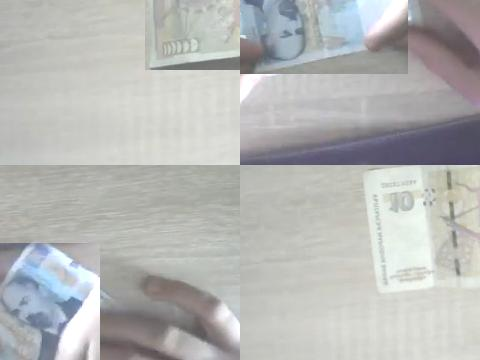20leva: (0, 243, 100, 360), (240, 0, 393, 74)
